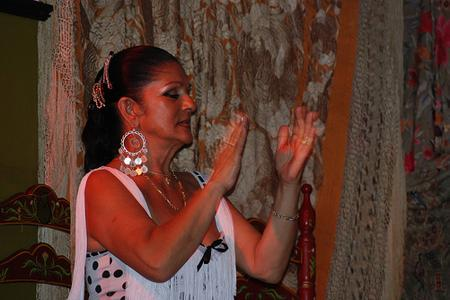person: (66, 44, 319, 299)
